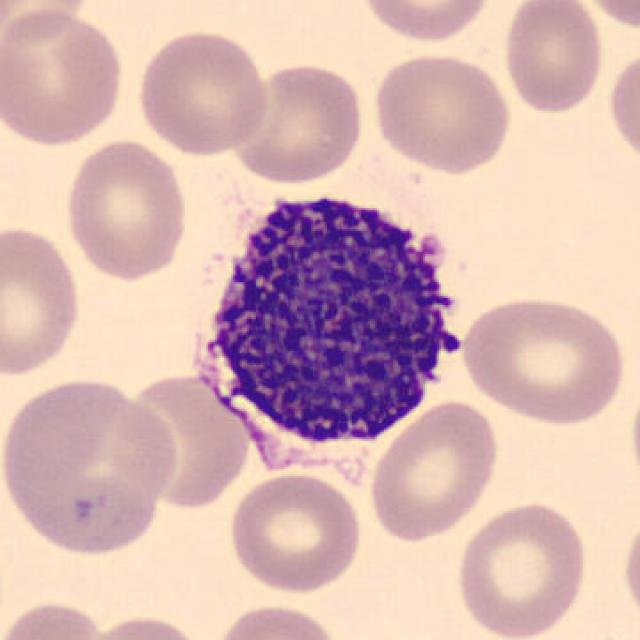Basophil: (174, 174, 482, 486)
RBC: (0, 374, 180, 560), (457, 291, 629, 427), (365, 396, 503, 544), (452, 497, 592, 640), (60, 136, 192, 284), (0, 2, 128, 150), (133, 24, 272, 158), (224, 467, 366, 596), (370, 49, 514, 174), (231, 58, 368, 187), (0, 220, 85, 380), (499, 0, 606, 116), (357, 0, 496, 44), (208, 599, 347, 640), (0, 596, 112, 640), (604, 42, 640, 170), (0, 0, 94, 46), (75, 612, 212, 640), (618, 502, 640, 631), (581, 0, 639, 33), (627, 371, 640, 502)
